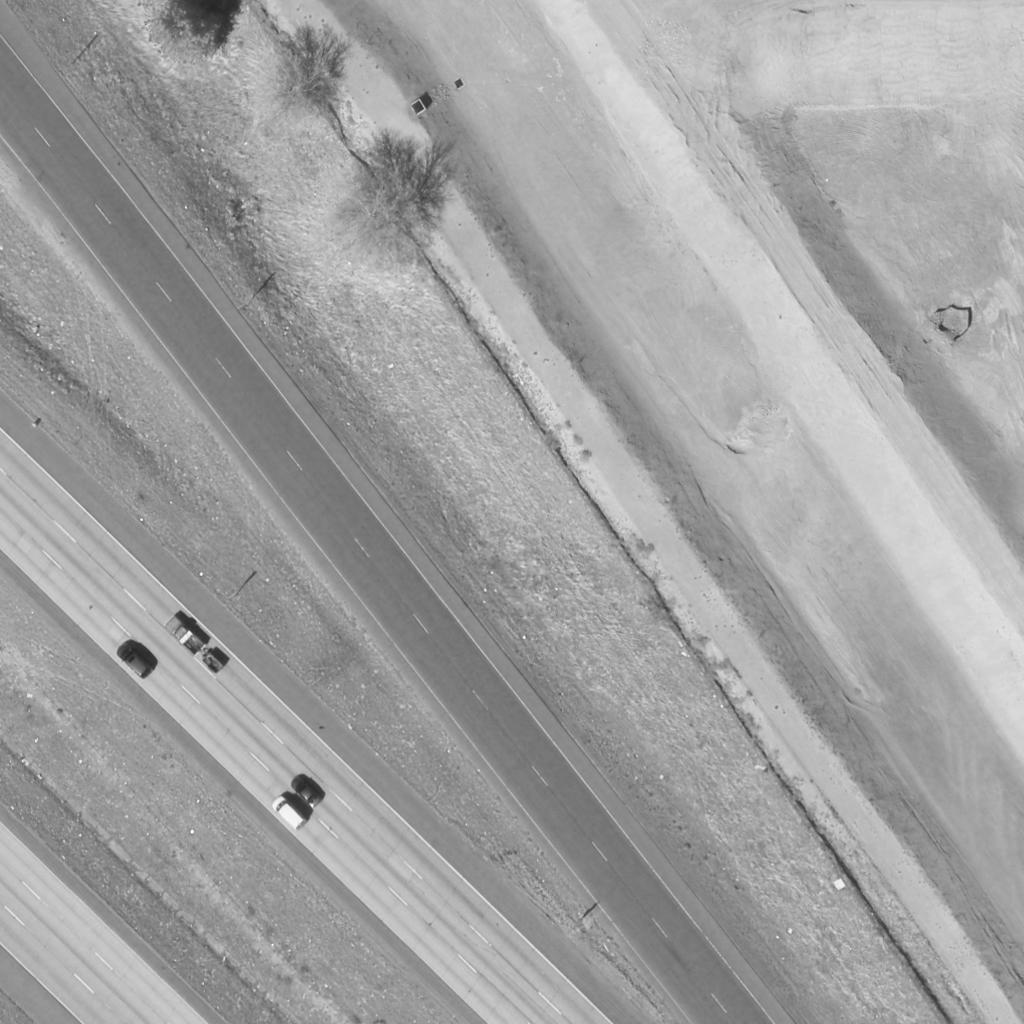vehicle: (162, 619, 204, 655), (271, 796, 307, 834), (115, 645, 151, 677), (290, 774, 324, 806)
